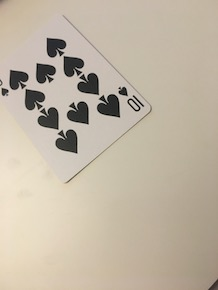TenOfSpades: (1, 11, 156, 188)
